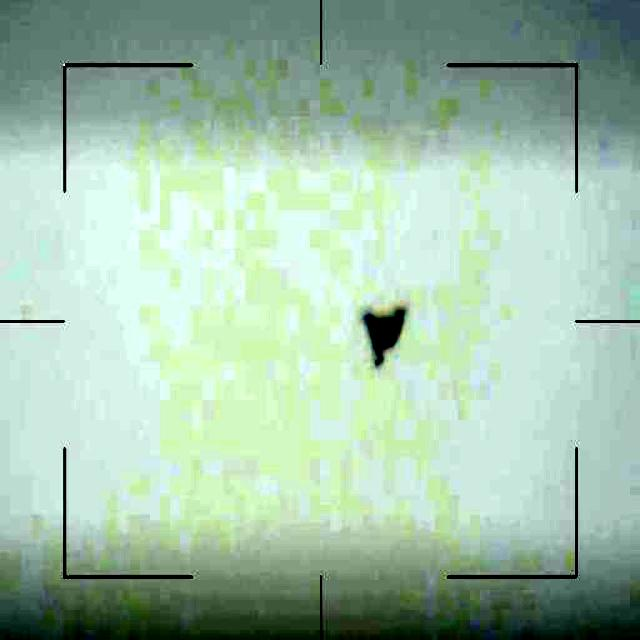bird: (360, 295, 412, 371)
